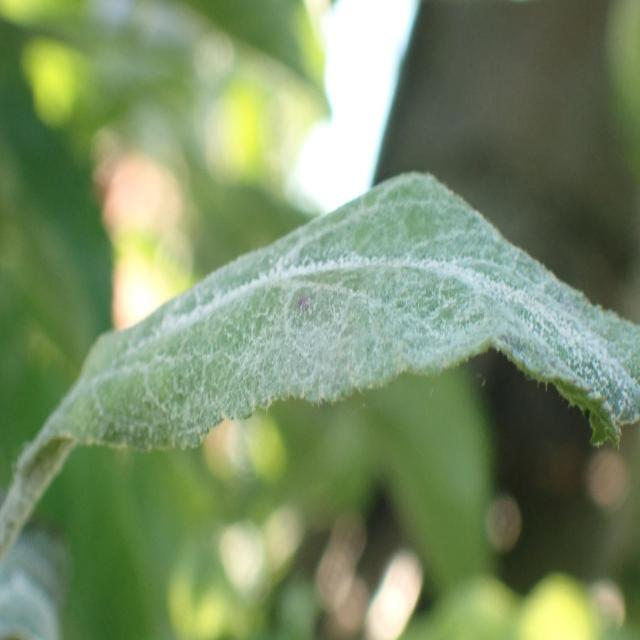Powdery_mildew: (0, 166, 640, 521)
